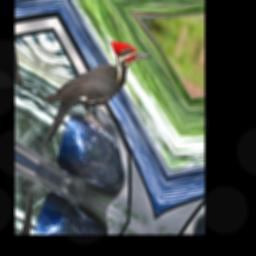Woodpecker: (29, 8, 153, 196)
